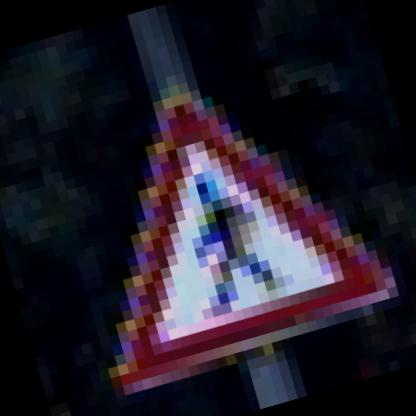crosswalk: (18, 43, 415, 415)
